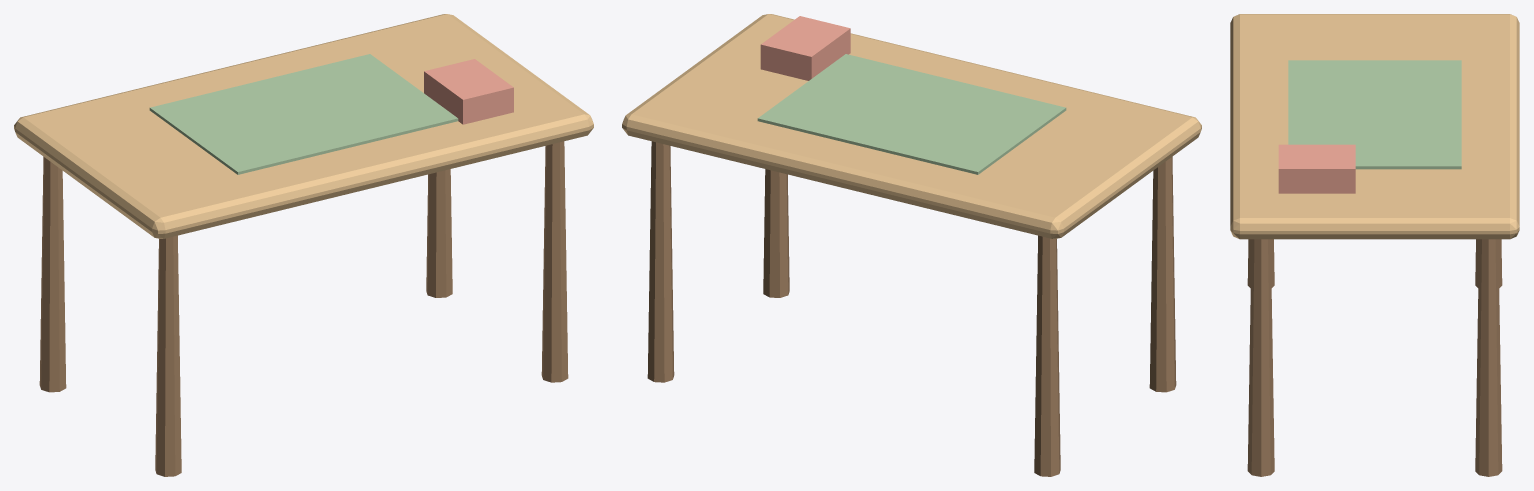
The model's file is cozy-home-interiors-craft-table-eb316715.glb.
The picture shows the model from 3 angles, left to right: view 1: azimuth 30°, elevation 25°; view 2: azimuth 150°, elevation 25°; view 3: azimuth 270°, elevation 25°; orthographic projection.
Visible parts, largest first — view 1: craft-table; view 2: craft-table; view 3: craft-table.
Part boxes in pixels (x1,y1,x2,y2): craft-table: (14,14,593,476); craft-table: (622,14,1201,476); craft-table: (1230,14,1519,476).
Size of the model in its own units: 1.3 by 0.82 by 0.7501.
